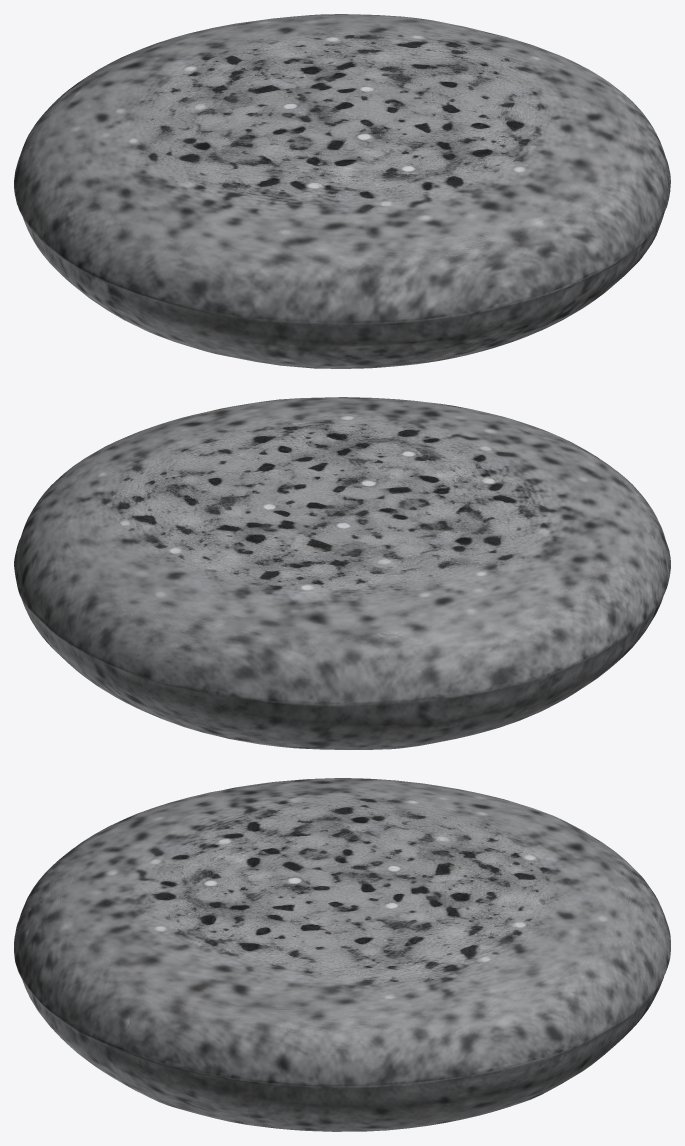
Rendered from rock-1.glb.
The picture shows the model from 3 angles, top to bottom: view 1: azimuth 30°, elevation 25°; view 2: azimuth 150°, elevation 25°; view 3: azimuth 270°, elevation 25°; orthographic projection.
Parts seen in each view (by area): view 1: Mesh_0; view 2: Mesh_0; view 3: Mesh_0.
Part boxes in pixels (<box>): Mesh_0: <box>14,14,670,368</box>; Mesh_0: <box>14,397,670,749</box>; Mesh_0: <box>14,778,670,1131</box>.
Bounding box in the file's own units: 2 × 0.5477 × 2.
1 material, 1 textured.
